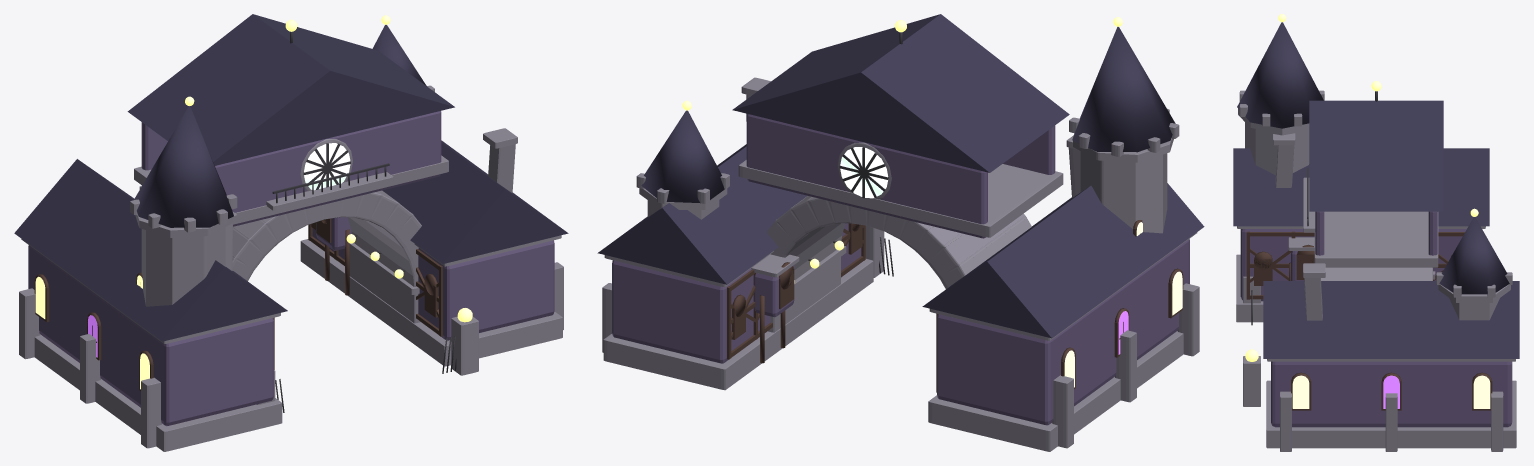
File: mansion.glb
3 views of the same model, side by side, from view 1: azimuth 30°, elevation 25°; view 2: azimuth 150°, elevation 25°; view 3: azimuth 270°, elevation 25° (orthographic). The views are drawn at different scales.
Parts seen in each view (by area): view 1: M_RoofPaint, M_Stone, M_WallPaint, M_WoodTrim, M_Iron, M_GhostWindow, M_WindowGlow, M_Candle; view 2: M_RoofPaint, M_Stone, M_WallPaint, M_WoodTrim, M_GhostWindow, M_Iron, M_WindowGlow; view 3: M_RoofPaint, M_Stone, M_WallPaint, M_WoodTrim, M_WindowGlow, M_Portrait, M_Candle.
Part boxes in pixels (x1=…): M_RoofPaint: x1=14, y1=14, x2=568, y2=341; M_Stone: x1=19, y1=85, x2=563, y2=451; M_WallPaint: x1=28, y1=111, x2=554, y2=426; M_WoodTrim: x1=34, y1=218, x2=442, y2=390; M_Iron: x1=272, y1=31, x2=456, y2=412; M_GhostWindow: x1=304, y1=143, x2=350, y2=190; M_WindowGlow: x1=35, y1=275, x2=149, y2=389; M_Candle: x1=185, y1=15, x2=472, y2=322; M_RoofPaint: x1=597, y1=14, x2=1204, y2=338; M_Stone: x1=602, y1=77, x2=1199, y2=451; M_WallPaint: x1=612, y1=114, x2=1189, y2=425; M_WoodTrim: x1=727, y1=220, x2=1183, y2=392; M_GhostWindow: x1=840, y1=147, x2=888, y2=198; M_Iron: x1=808, y1=32, x2=902, y2=276; M_WindowGlow: x1=1064, y1=222, x2=1182, y2=387; M_RoofPaint: x1=1233, y1=22, x2=1519, y2=358; M_Stone: x1=1236, y1=90, x2=1516, y2=451; M_WallPaint: x1=1240, y1=211, x2=1512, y2=427; M_WoodTrim: x1=1246, y1=231, x2=1492, y2=410; M_WindowGlow: x1=1292, y1=375, x2=1490, y2=408; M_Portrait: x1=1383, y1=375, x2=1399, y2=408; M_Candle: x1=1245, y1=14, x2=1478, y2=361.
Bounding box in the file's own units: 57.6 × 40.95 × 38.
